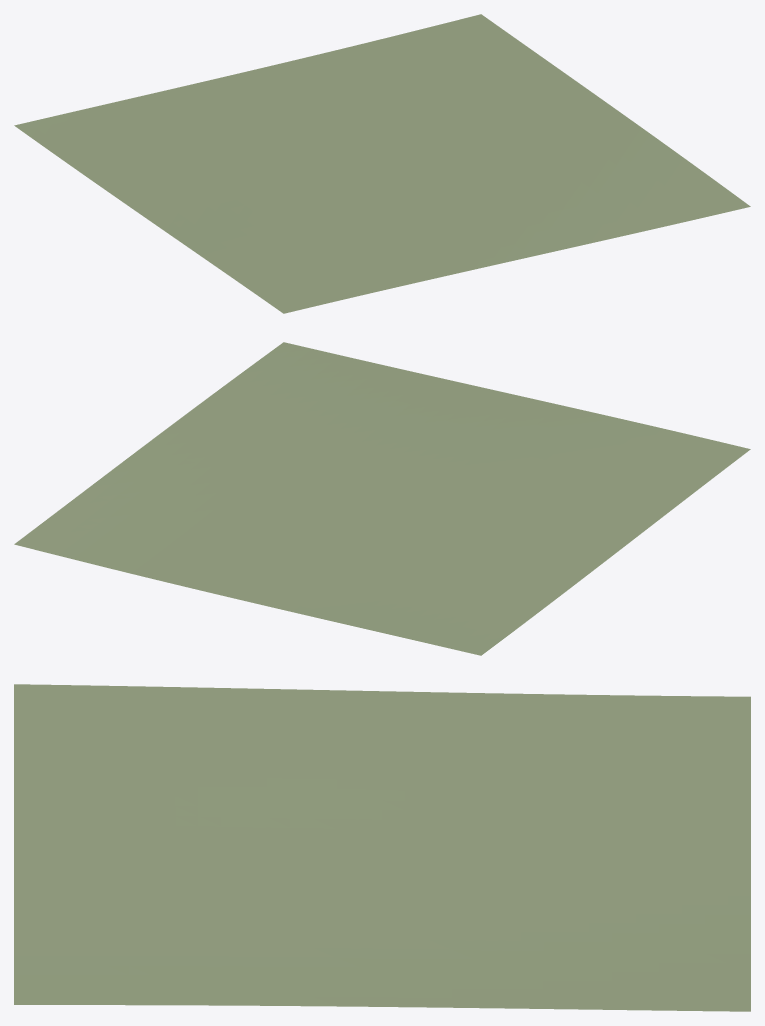
The model's file is expanse-19-23.glb.
3 renders of one model, top to bottom at view 1: azimuth 30°, elevation 25°; view 2: azimuth 150°, elevation 25°; view 3: azimuth 270°, elevation 25°, orthographic. The views are drawn at different scales.
Visible parts, largest first — view 1: expanse-19-23; view 2: expanse-19-23; view 3: expanse-19-23.
Part boxes in pixels (<box>): expanse-19-23: <box>14,14,750,313</box>; expanse-19-23: <box>14,342,750,655</box>; expanse-19-23: <box>14,684,750,1011</box>.
Size of the model in its own units: 256 by 6.53 by 256.
